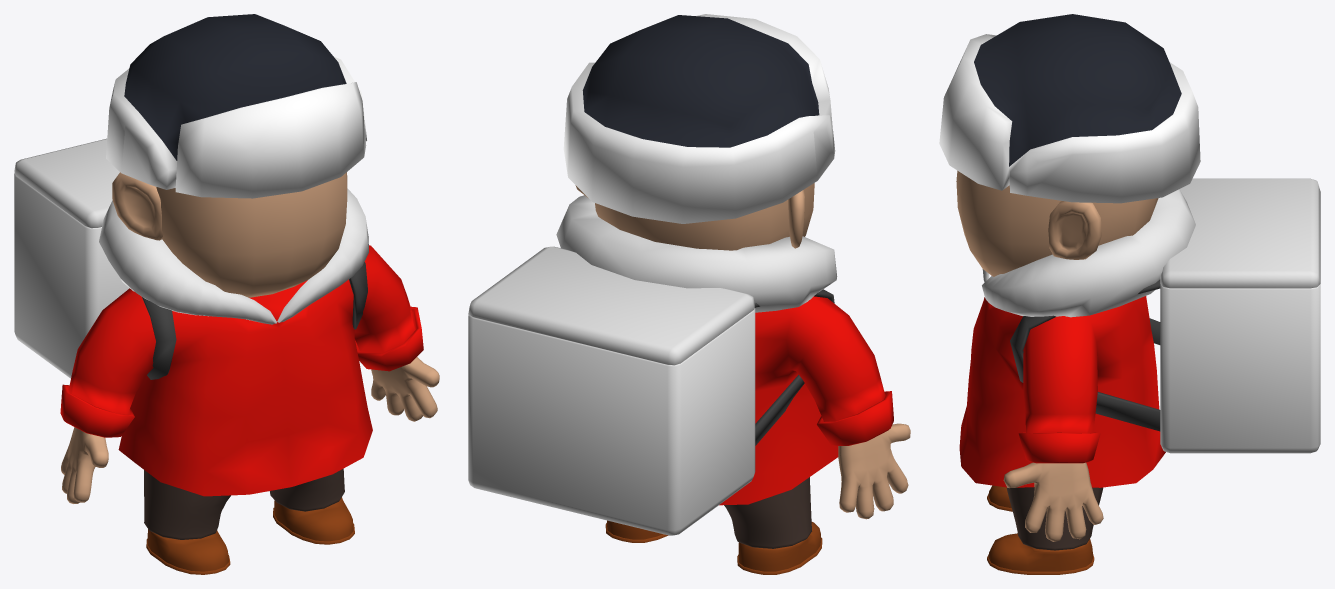
The model's file is russian.glb.
3 renders of one model, left to right at view 1: azimuth 30°, elevation 25°; view 2: azimuth 150°, elevation 25°; view 3: azimuth 270°, elevation 25°, orthographic. The views are drawn at different scales.
Visible parts, largest first — view 1: Ruso.001; view 2: Ruso.001; view 3: Ruso.001.
Part boxes in pixels (x1=…): Ruso.001: x1=14, y1=14, x2=439, y2=574; Ruso.001: x1=468, y1=14, x2=910, y2=574; Ruso.001: x1=939, y1=14, x2=1320, y2=574.
Size of the model in its own units: 1.05 by 1.38 by 0.9498.
